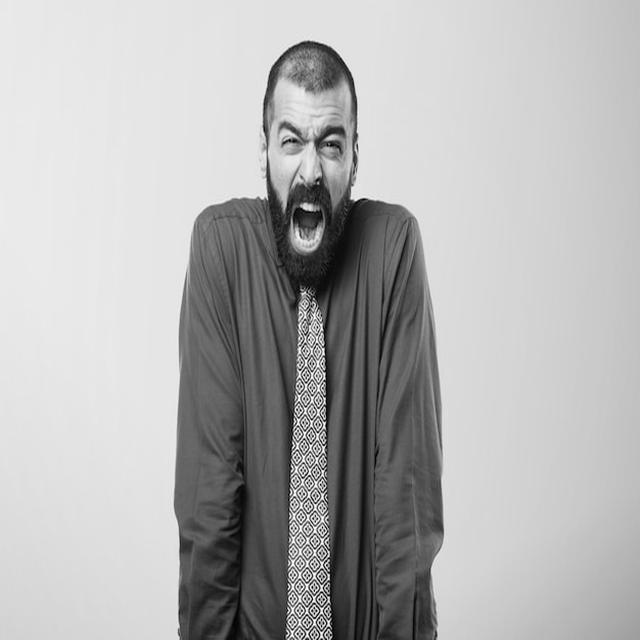Angry: (266, 83, 354, 282)
